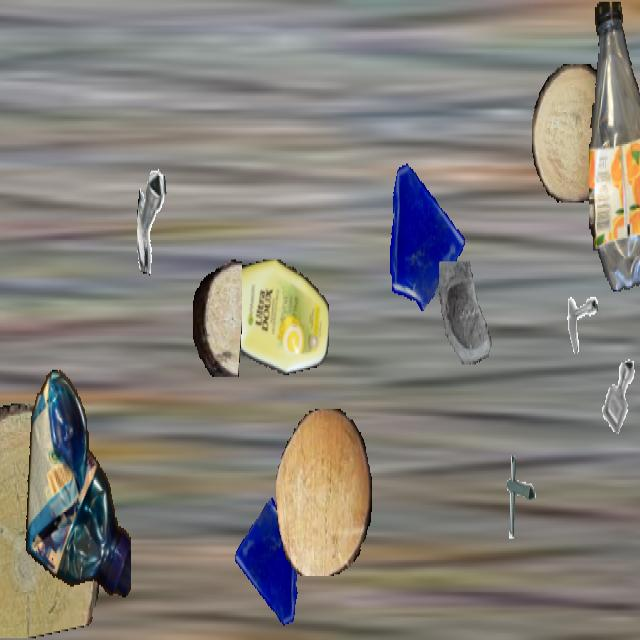glass: (377, 151, 467, 311), (233, 498, 311, 636), (433, 262, 501, 382)
metal: (137, 169, 199, 279), (591, 347, 640, 446), (492, 450, 544, 542), (556, 277, 598, 352)
plastic: (22, 366, 130, 608), (589, 2, 640, 290), (216, 259, 328, 377)
wood: (0, 404, 103, 638), (276, 409, 372, 576), (532, 64, 614, 203), (193, 258, 241, 375)
